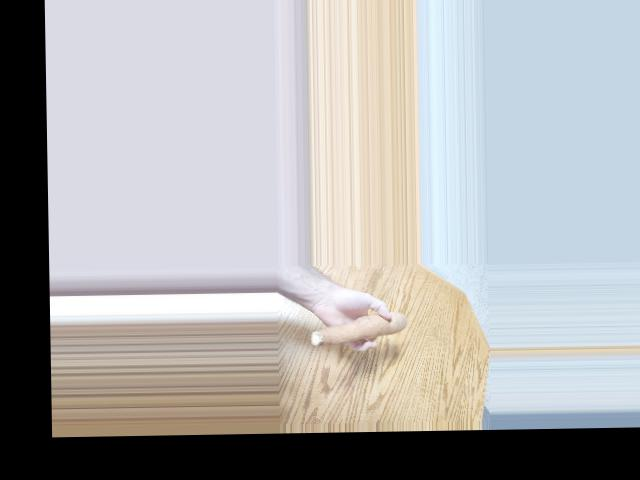sweet_potato: (302, 316, 411, 347)
